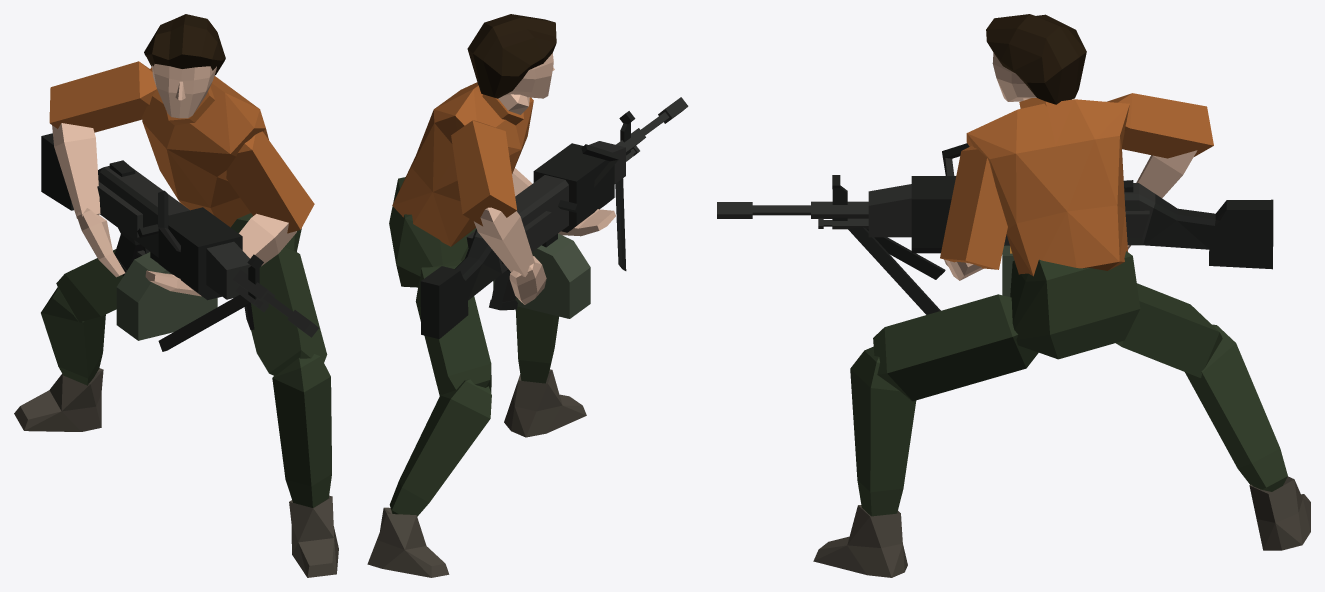
Rendered from Zach.gltf.
3 renders of one model, left to right at view 1: azimuth 30°, elevation 25°; view 2: azimuth 150°, elevation 25°; view 3: azimuth 270°, elevation 25°, orthographic. The views are drawn at different scales.
Visible parts, largest first — view 1: ZachMesh, LMGMesh; view 2: ZachMesh, LMGMesh; view 3: ZachMesh, LMGMesh.
Boxes of the visible parts, x1,y1,x2,y2 form: ZachMesh: (14, 14, 338, 577); LMGMesh: (41, 133, 318, 351); ZachMesh: (367, 14, 615, 577); LMGMesh: (420, 97, 688, 339); ZachMesh: (813, 14, 1310, 577); LMGMesh: (717, 143, 1273, 314).
Size of the model in its own units: 0.6018 by 1.46 by 1.5.
